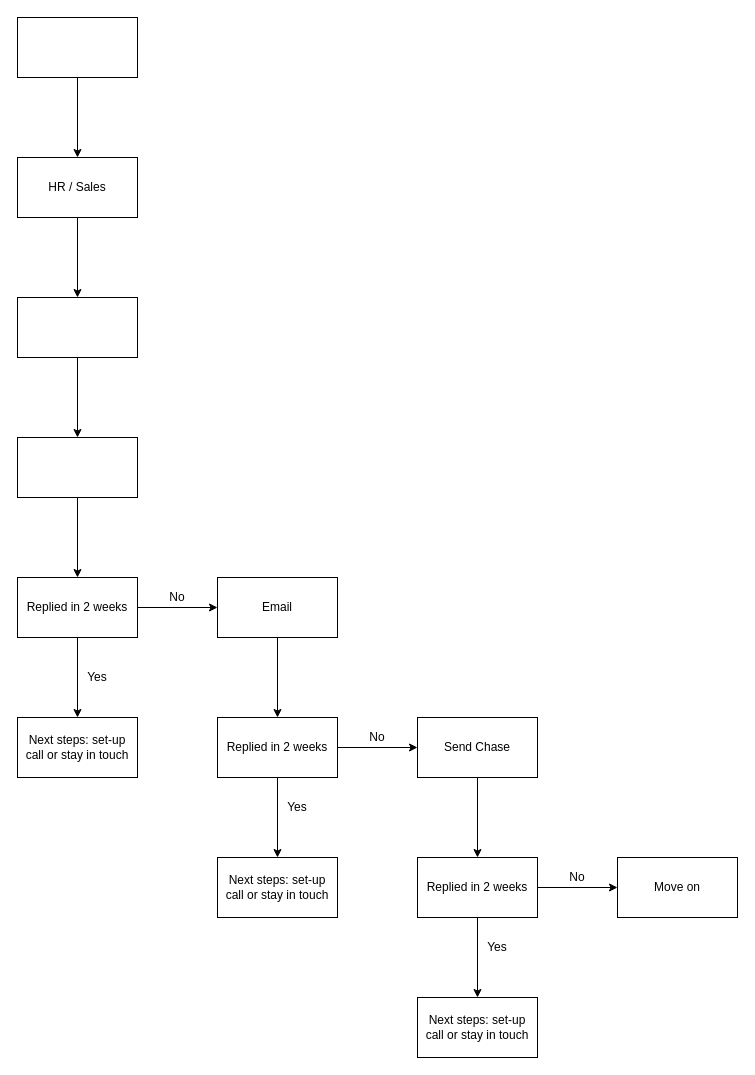
Some shapes in this 755 by 1075 pixel diagram are drawn without their labels. The shapes that lost their labels are listed below. From the top down, each one's box as (x1, y1, x2, y2) in pixels, then its label:
(16, 16, 138, 78): Select Industry
(16, 296, 138, 358): Add all contacts into Sales Navigator List
(16, 436, 138, 498): InMail contacts with short message
